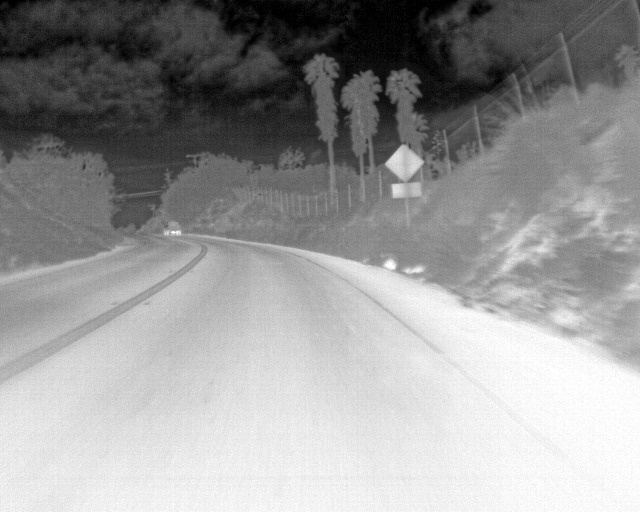vehicle: (163, 220, 181, 235)
